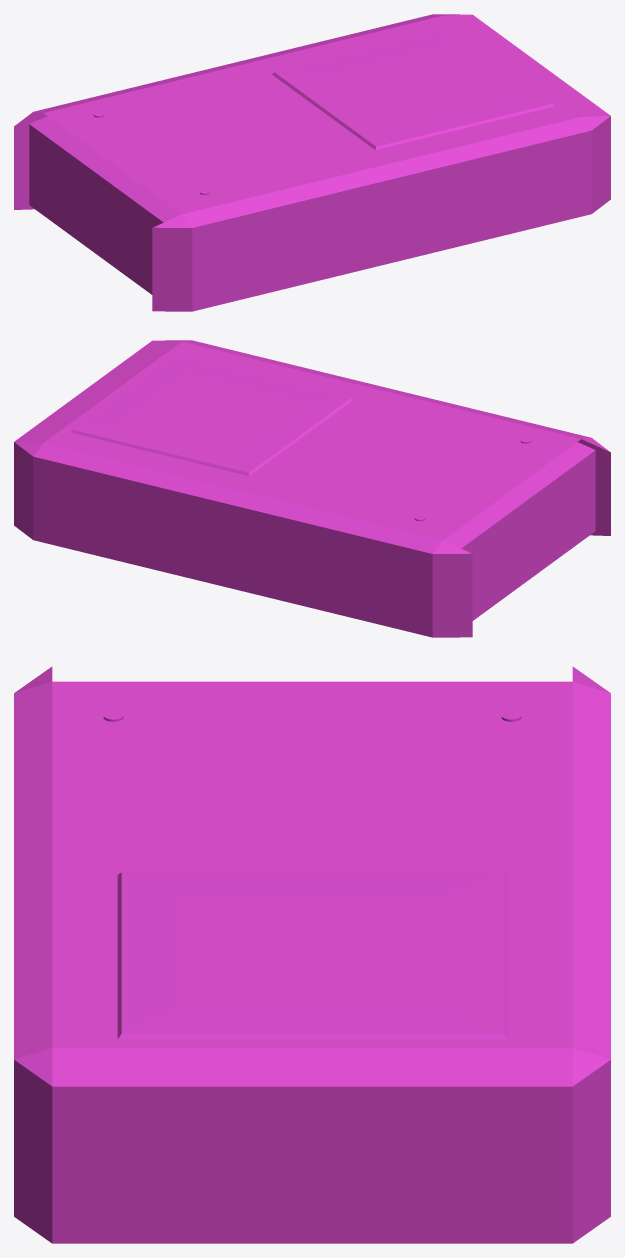
The picture shows the model from 3 angles, top to bottom: view 1: azimuth 30°, elevation 25°; view 2: azimuth 150°, elevation 25°; view 3: azimuth 270°, elevation 25°; orthographic projection. The views are drawn at different scales.
Parts seen in each view (by area): view 1: base_link; view 2: base_link; view 3: base_link.
Boxes of the visible parts, bbox=[...] form: base_link: bbox=[14, 14, 610, 311]; base_link: bbox=[14, 340, 610, 637]; base_link: bbox=[14, 666, 610, 1243].
Bounding box in the file's own units: 0.5 × 0.3 × 0.1025.
